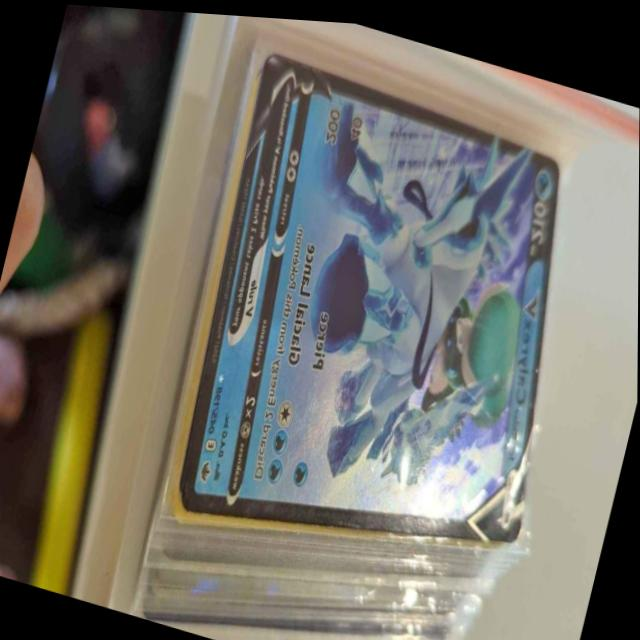card: (180, 47, 560, 537)
